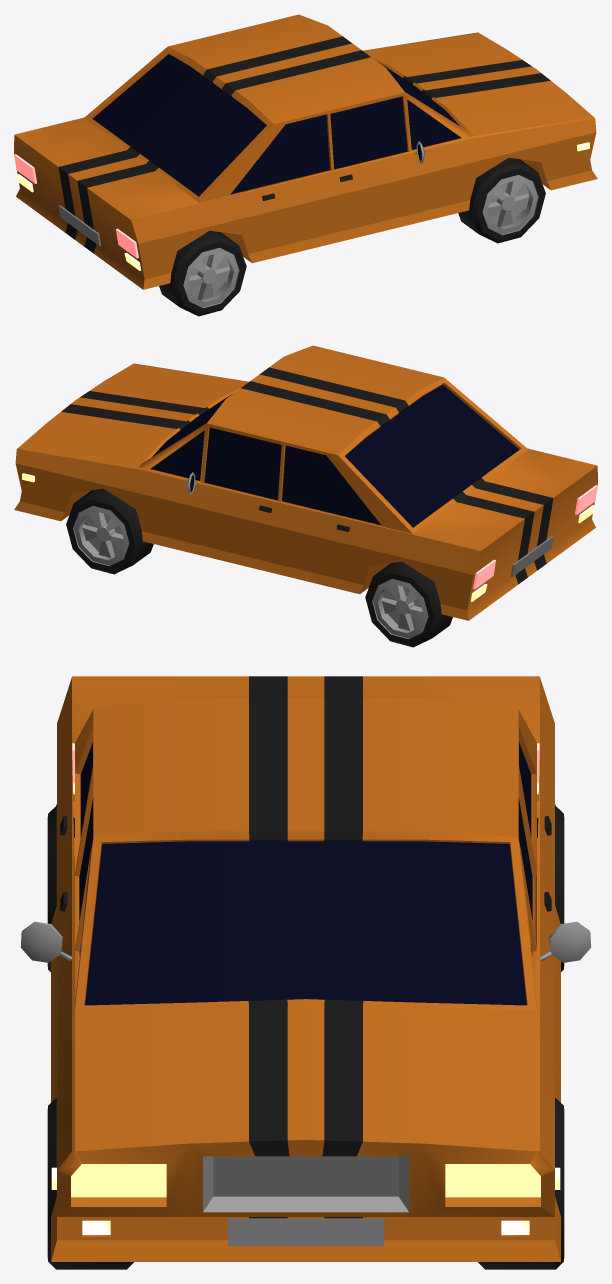
The model's file is car1.glb.
3 views of the same model, one above another, from view 1: azimuth 30°, elevation 25°; view 2: azimuth 150°, elevation 25°; view 3: azimuth 270°, elevation 25° (orthographic). The views are drawn at different scales.
Parts seen in each view (by area): view 1: car1, tiresFront.004, tiresRear.004; view 2: car1, tiresFront.004, tiresRear.004; view 3: car1, tiresFront.004, tiresRear.004.
Part boxes in pixels (x1,y1,x2,y2): car1: (14, 14, 597, 289); tiresFront.004: (458, 158, 545, 243); tiresRear.004: (159, 230, 246, 316); car1: (14, 345, 597, 620); tiresFront.004: (66, 489, 153, 574); tiresRear.004: (365, 561, 452, 647); car1: (20, 676, 591, 1261); tiresFront.004: (47, 1098, 564, 1269); tiresRear.004: (47, 805, 564, 971).
Bounding box in the file's own units: 129 × 45.02 × 68.41.
